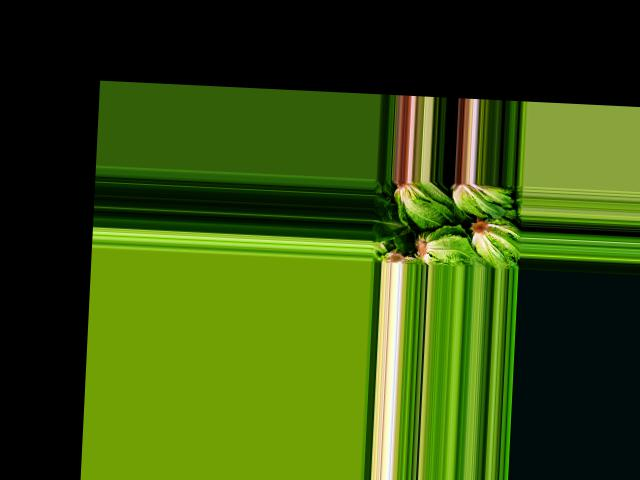lettuce: (371, 207, 407, 243)
